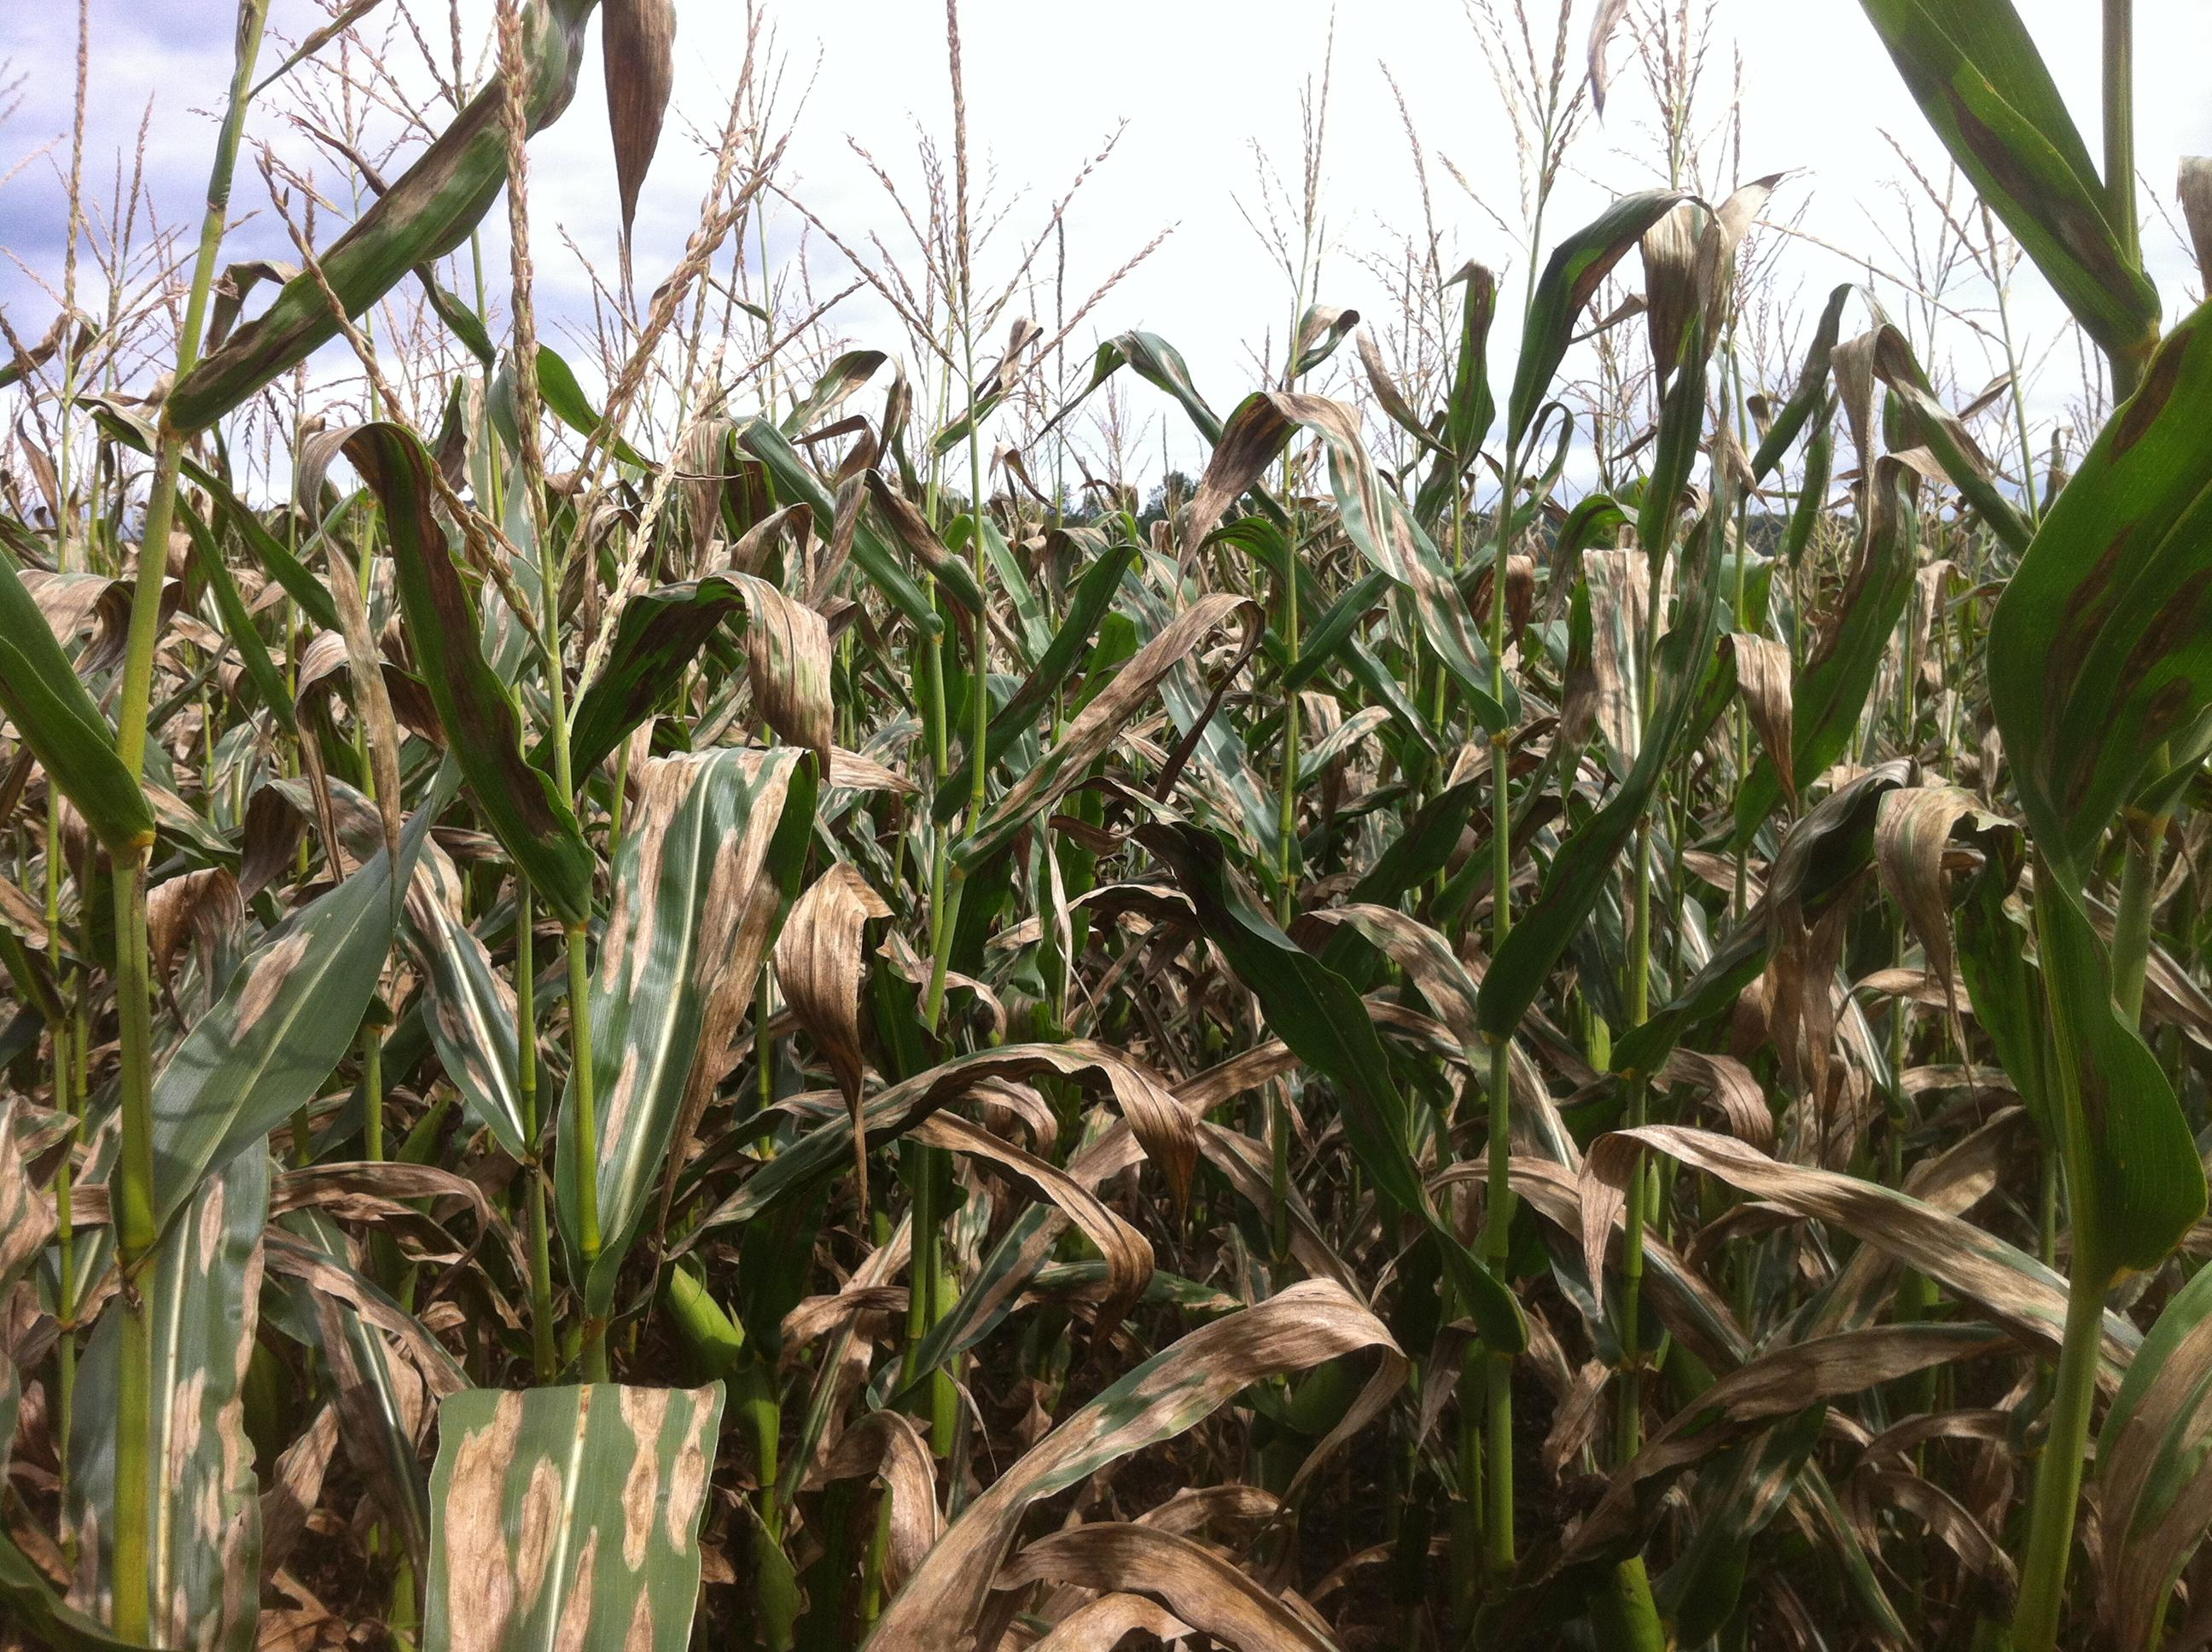Corn leaf blight: (1980, 309, 2203, 1366), (132, 5, 597, 456), (883, 1275, 1400, 1652), (1579, 1109, 2196, 1413), (127, 755, 463, 1223), (305, 406, 588, 956), (576, 741, 834, 1340), (664, 1032, 1197, 1260), (1839, 0, 2158, 375), (416, 1367, 743, 1652), (947, 602, 1265, 882), (1502, 180, 1735, 545), (139, 1154, 295, 1652), (1171, 371, 1454, 619)
